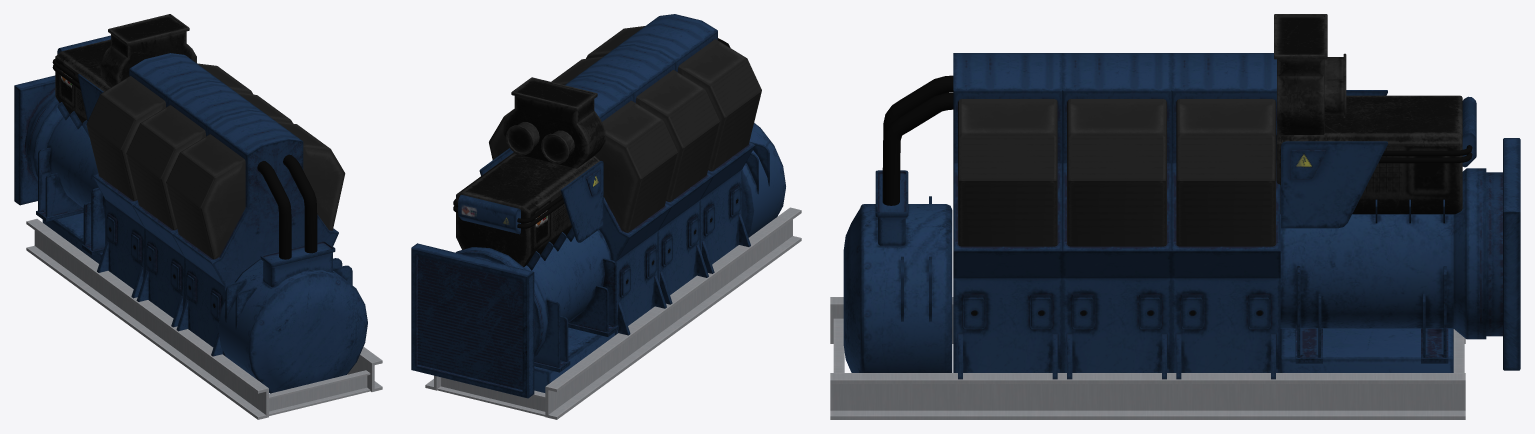
Rendered from generateur.obj.
3 renders of one model, left to right at view 1: azimuth 30°, elevation 25°; view 2: azimuth 150°, elevation 25°; view 3: azimuth 270°, elevation 25°, orthographic. The views are drawn at different scales.
Parts seen in each view (by area): view 1: SM_BigGen_meshId0_name; view 2: SM_BigGen_meshId0_name; view 3: SM_BigGen_meshId0_name.
Boxes of the visible parts, x1=… form: SM_BigGen_meshId0_name: x1=14, y1=14, x2=382, y2=419; SM_BigGen_meshId0_name: x1=411, y1=14, x2=801, y2=419; SM_BigGen_meshId0_name: x1=830, y1=14, x2=1520, y2=419.
Size of the model in its own units: 1.53 by 2.56 by 4.6.
1 material, 1 textured.
